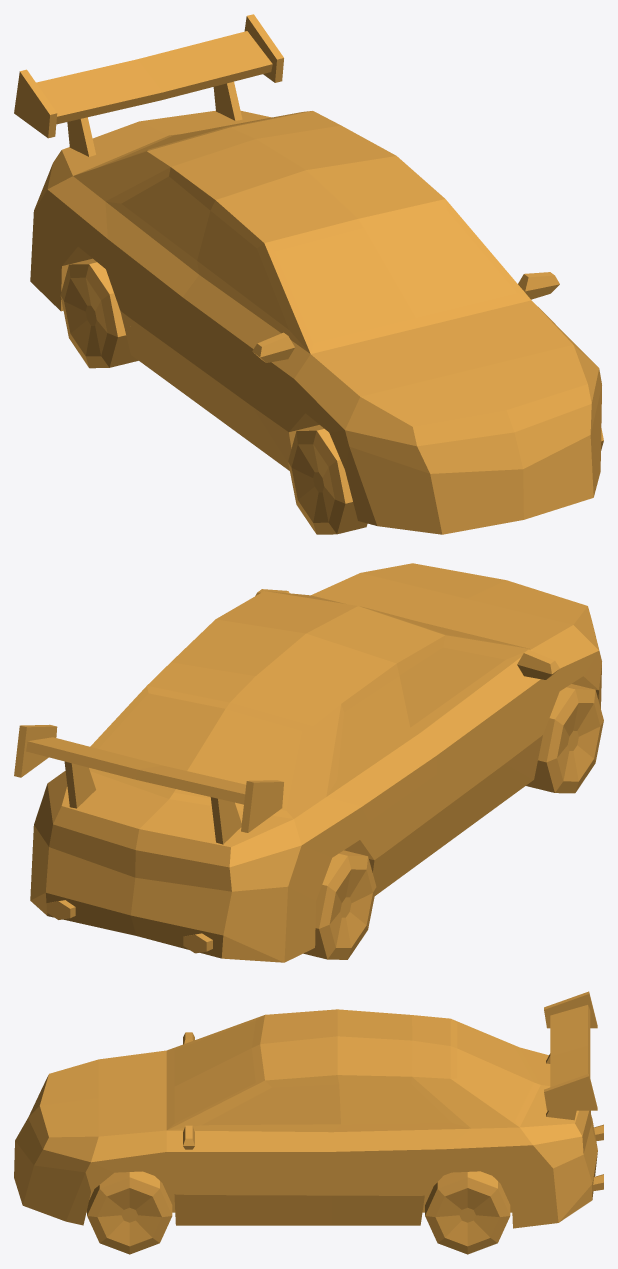
Rendered from car-passenger-race.glb.
3 views of the same model, one above another, from view 1: azimuth 30°, elevation 25°; view 2: azimuth 150°, elevation 25°; view 3: azimuth 270°, elevation 25° (orthographic). The views are drawn at different scales.
Visible parts, largest first — view 1: car-passenger-race-base, car-passenger-race-wheel_BR, car-passenger-race-wheel_FR; view 2: car-passenger-race-base, car-passenger-race-wheel_FR, car-passenger-race-wheel_BR; view 3: car-passenger-race-base, car-passenger-race-wheel_BL, car-passenger-race-wheel_FL.
Boxes of the visible parts, x1,y1,x2,y2 form: car-passenger-race-base: [14, 14, 601, 534]; car-passenger-race-wheel_BR: [60, 258, 138, 368]; car-passenger-race-wheel_FR: [288, 425, 367, 534]; car-passenger-race-base: [14, 563, 601, 962]; car-passenger-race-wheel_FR: [526, 684, 603, 793]; car-passenger-race-wheel_BR: [303, 850, 376, 959]; car-passenger-race-base: [14, 991, 603, 1228]; car-passenger-race-wheel_BL: [425, 1171, 510, 1254]; car-passenger-race-wheel_FL: [87, 1171, 172, 1254].
Size of the model in its own units: 2.1 by 1.57 by 4.81.
